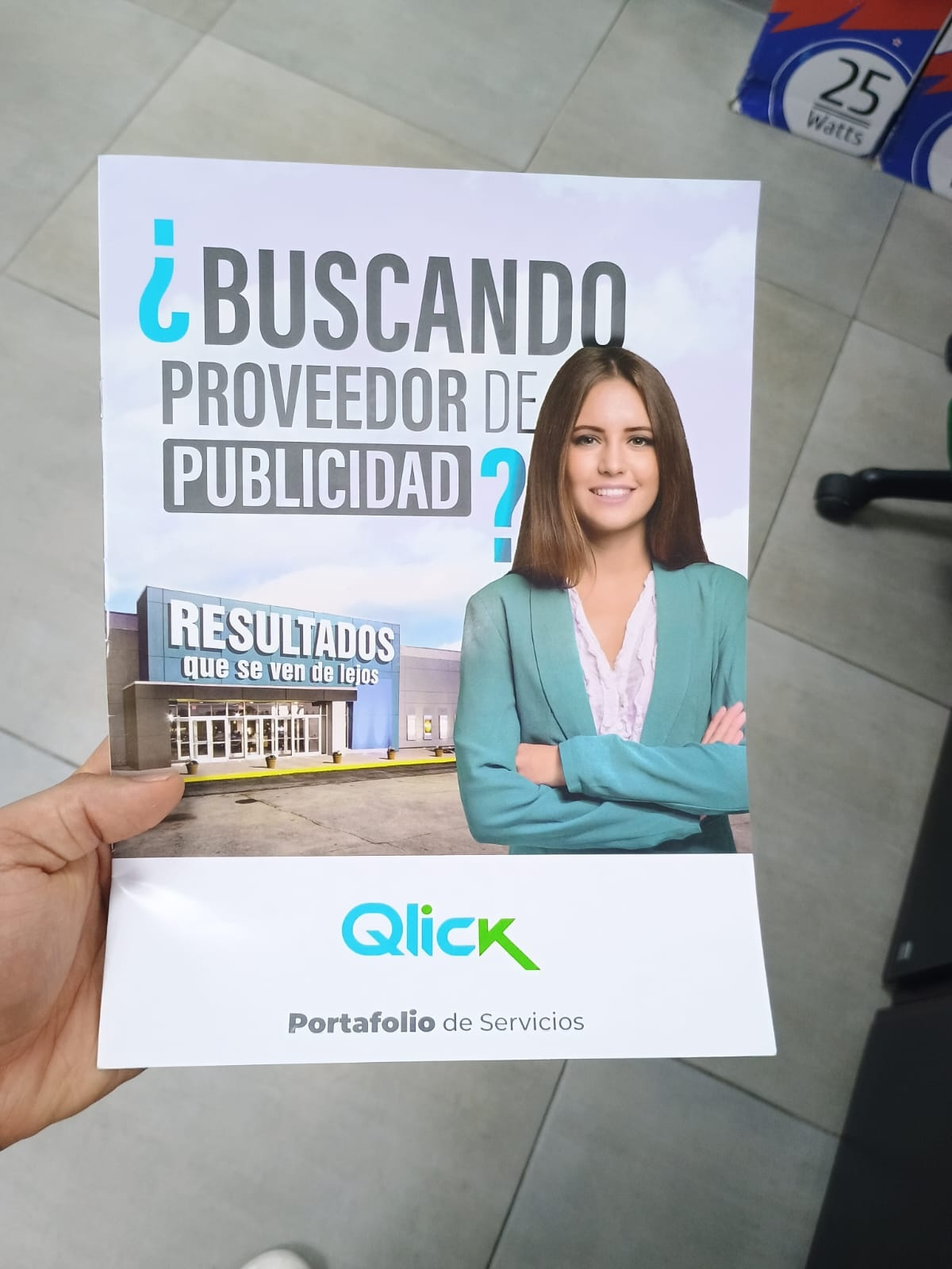Papel: (99, 152, 781, 1074)
